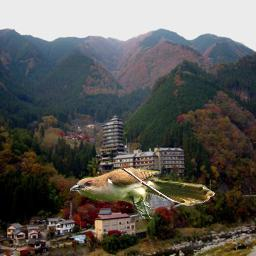Cuckoo: (70, 168, 216, 219)
